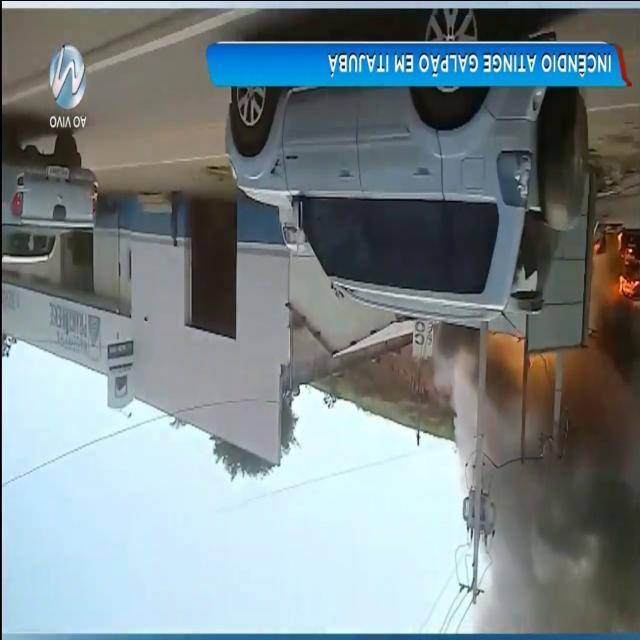Fire: (433, 318, 638, 636), (617, 273, 640, 306), (616, 232, 623, 252)
